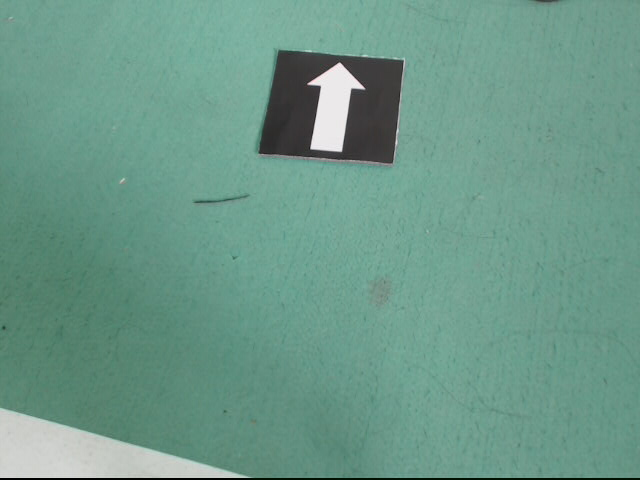straight: (259, 50, 404, 164)
